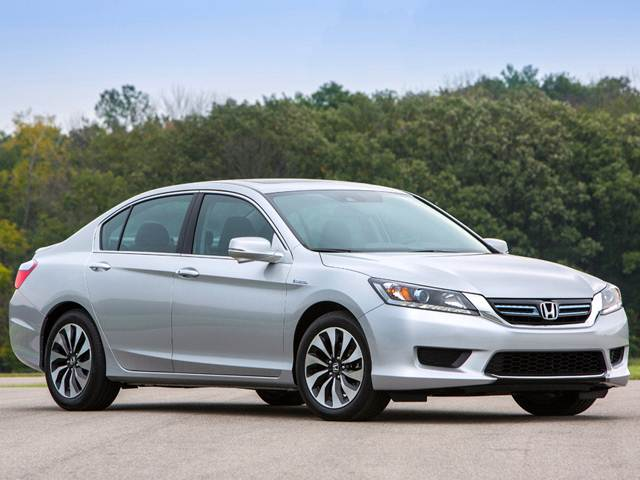car: (8, 177, 630, 423)
